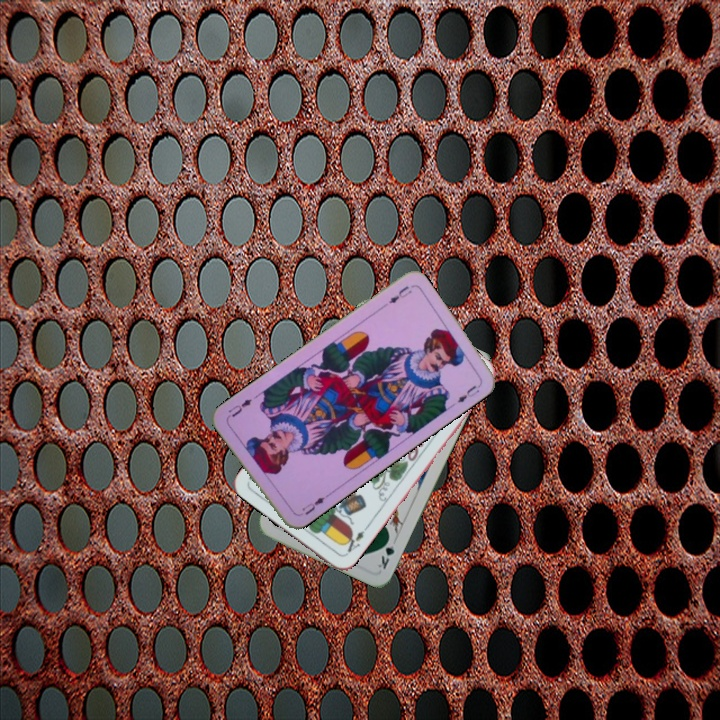EA: (339, 523, 370, 558)
EU: (298, 490, 331, 518), (384, 282, 414, 306)
GK: (373, 532, 397, 571)
